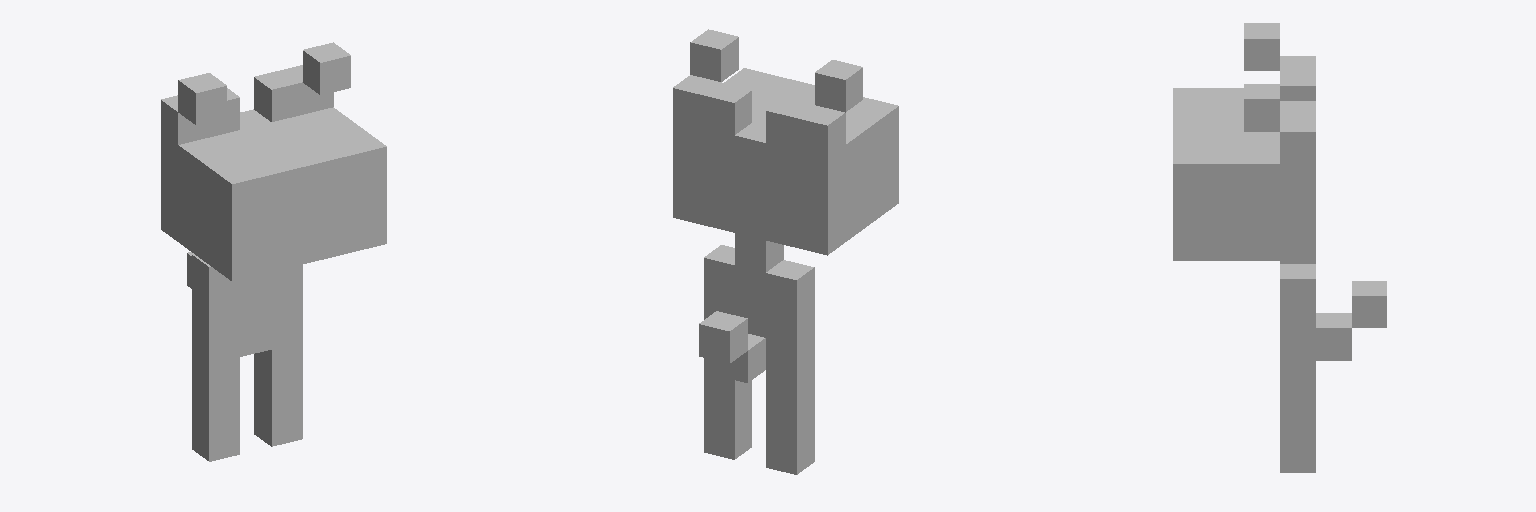
The model's file is environ-pig.obj.
The picture shows the model from 3 angles: view 1: azimuth 30°, elevation 25°; view 2: azimuth 150°, elevation 25°; view 3: azimuth 270°, elevation 25°; orthographic projection.
Parts seen in each view (by area): view 1: pig; view 2: pig; view 3: pig.
Boxes of the visible parts, x1=… form: pig: x1=161, y1=42, x2=386, y2=461; pig: x1=673, y1=29, x2=898, y2=474; pig: x1=1173, y1=23, x2=1386, y2=472.
Size of the model in its own units: 0.5 by 1.2 by 0.6.